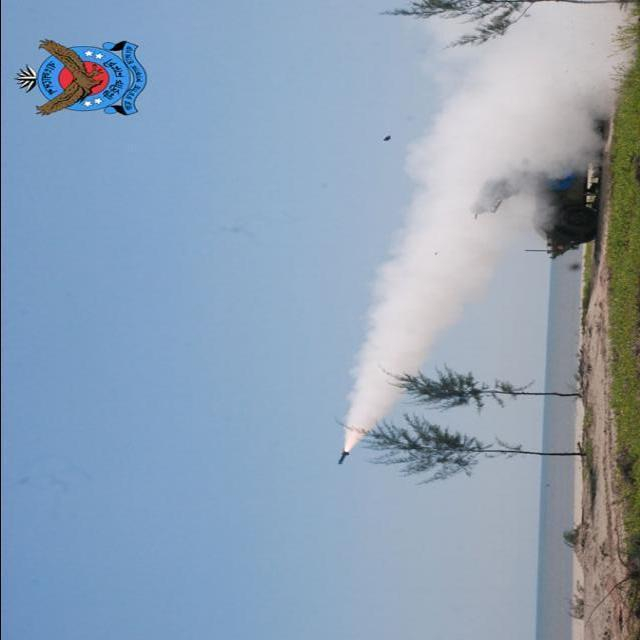missile: (334, 448, 353, 467)
